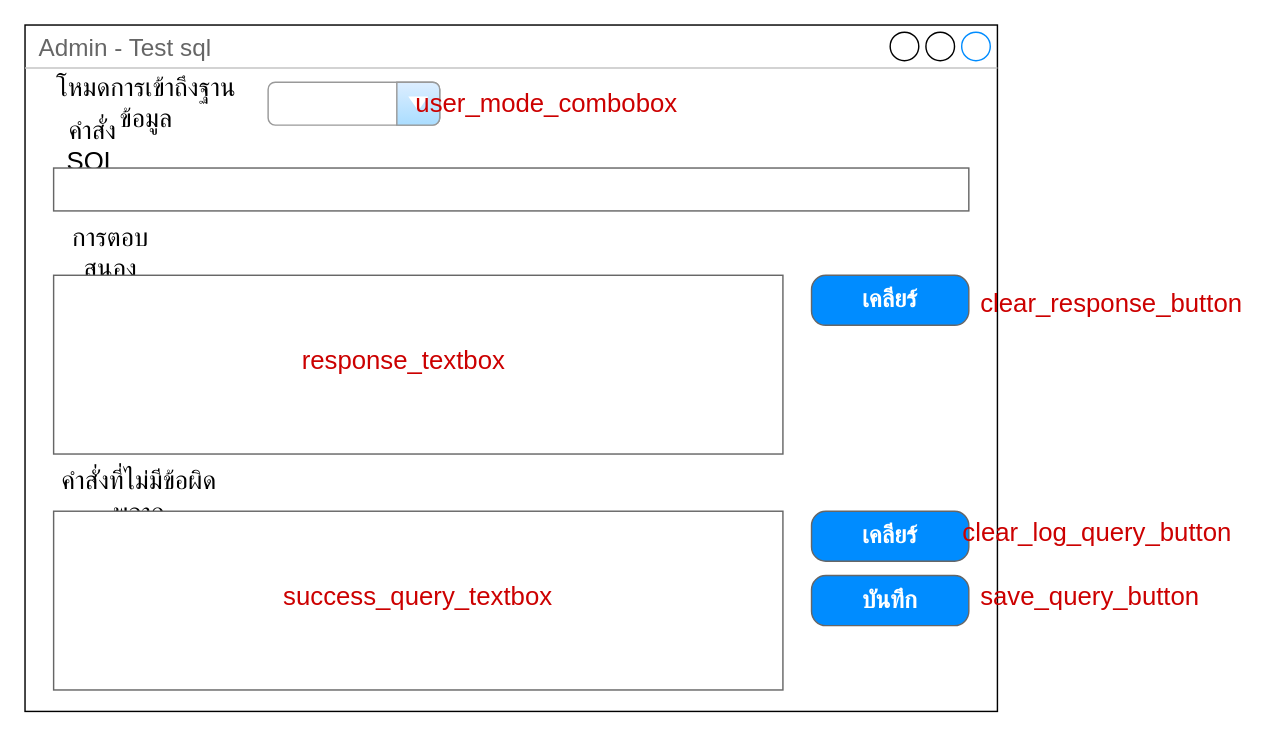
This 1266x736 diagram has some shape labels left out. The shapes that lost their labels are listed below. From the top down, each one's centre as x and y in pixels, then its label:
the point at 353,103: Option 1
the point at 510,189: query_entry
